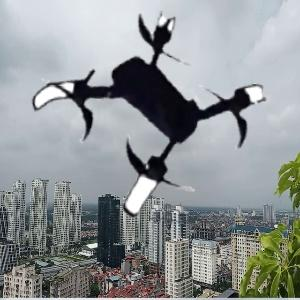drone: (28, 2, 265, 239)
